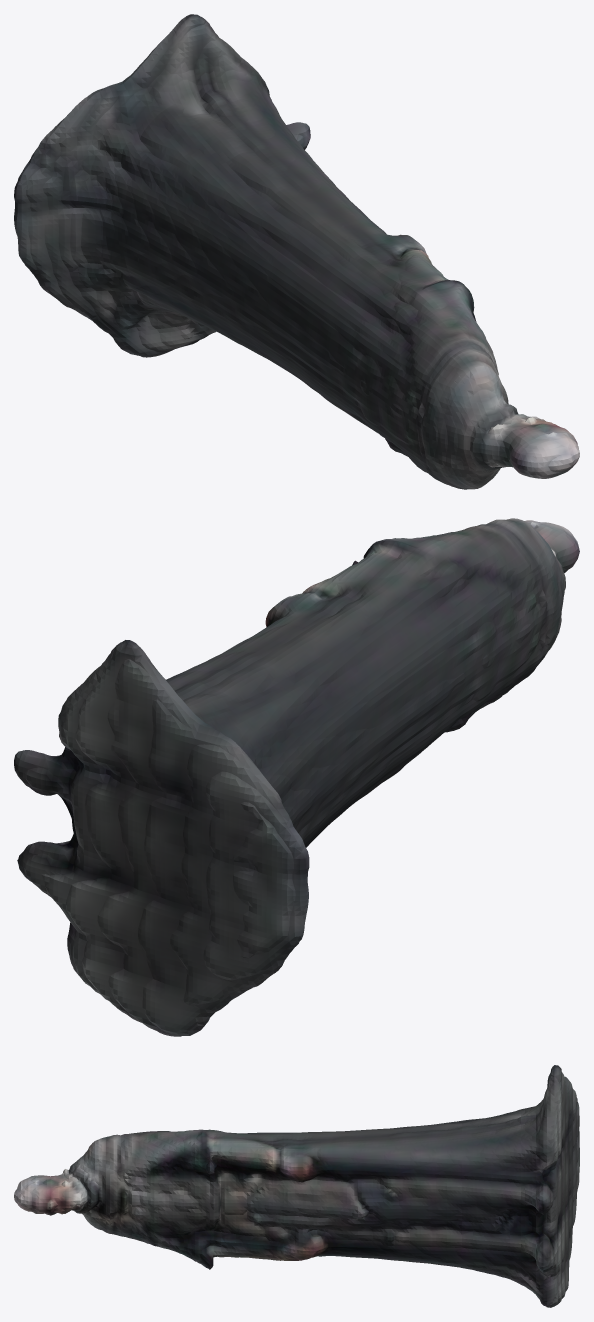
Rendered from magneto3d.glb.
The picture shows the model from 3 angles, top to bottom: view 1: azimuth 30°, elevation 25°; view 2: azimuth 150°, elevation 25°; view 3: azimuth 270°, elevation 25°; orthographic projection. The views are drawn at different scales.
Visible parts, largest first — view 1: world; view 2: world; view 3: world.
Part boxes in pixels (x1,y1,x2,y2): world: (14, 14, 579, 489); world: (14, 518, 579, 1036); world: (14, 1065, 579, 1307).
Bounding box in the file's own units: 0.4287 × 0.496 × 1.04.
